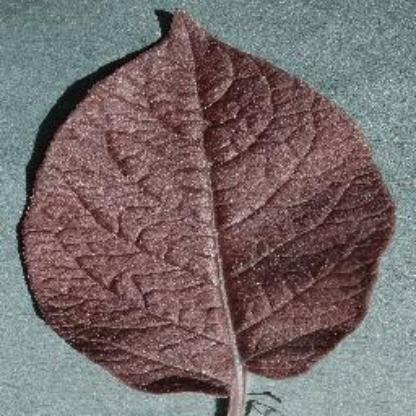Healthy-plant: (14, 8, 394, 416)
